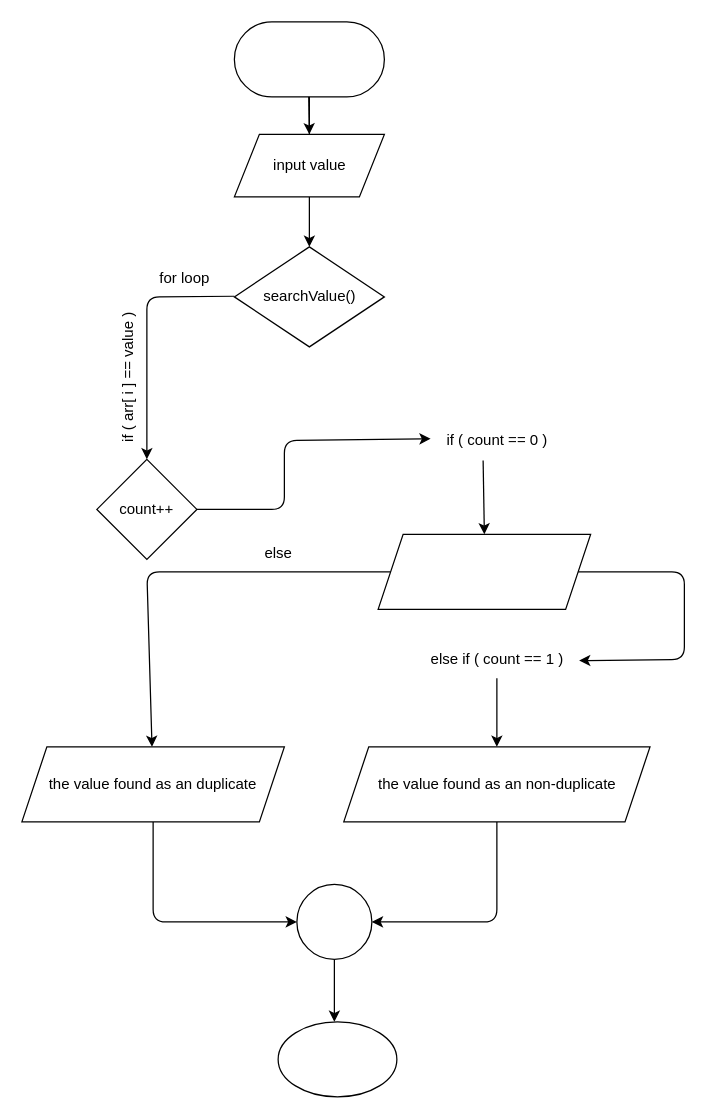
Some shapes in this 716 by 1119 pixel diagram are drawn without their labels. The shapes that lost their labels are listed below. From the top down, each one's centre as x and y in pixels, then its label:
pixel 308 59: Start
pixel 484 571: the value is not found
pixel 337 1059: end
